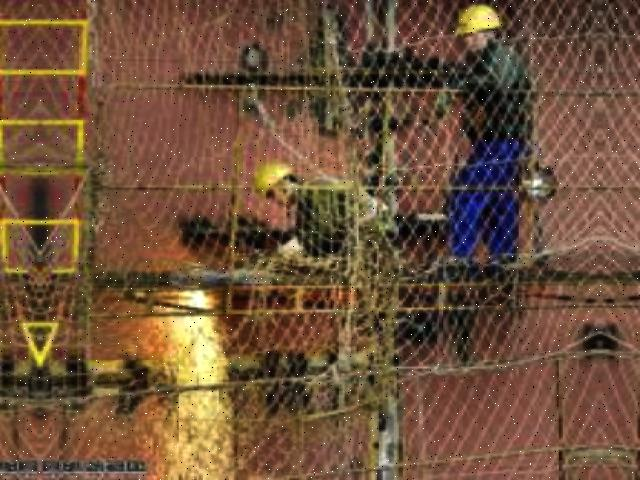Helmet: (448, 0, 510, 39), (252, 156, 302, 199)
